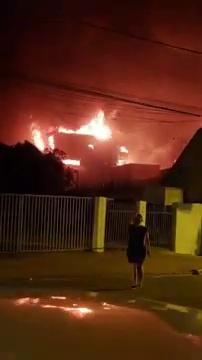fire: (84, 109, 110, 135), (35, 125, 55, 155)
